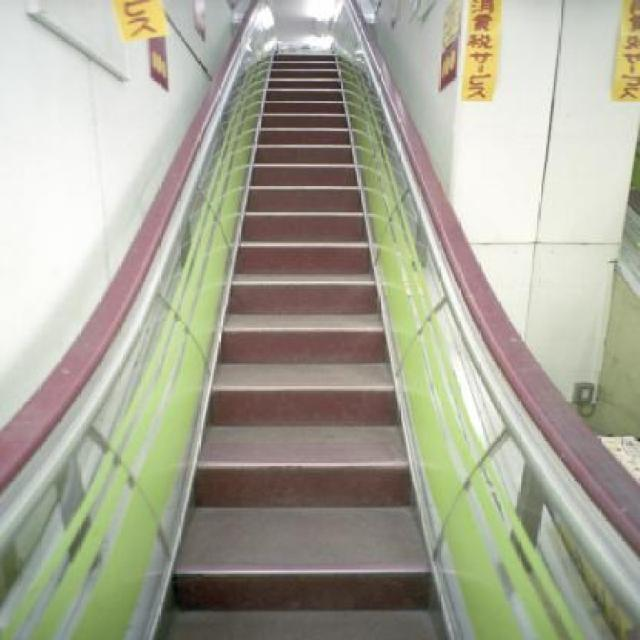stair: (152, 52, 460, 640)
